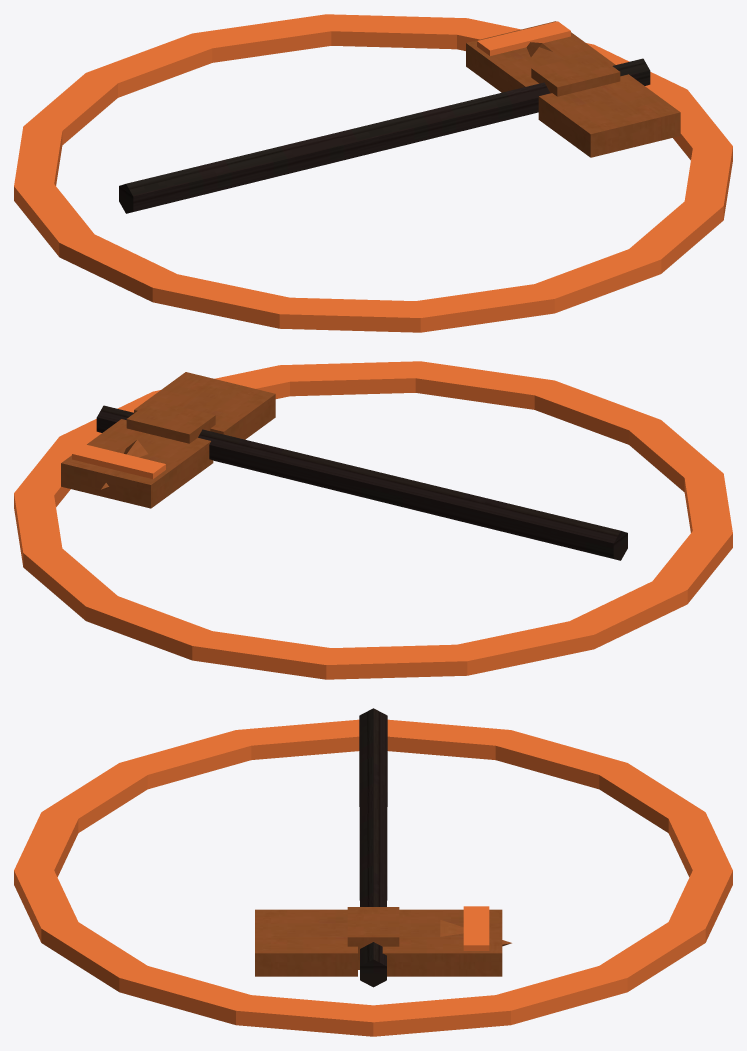
The model's file is loot_axe_g4.glb.
The picture shows the model from 3 angles, top to bottom: view 1: azimuth 30°, elevation 25°; view 2: azimuth 150°, elevation 25°; view 3: azimuth 270°, elevation 25°; orthographic projection.
Parts seen in each view (by area): view 1: loot_axe_g4; view 2: loot_axe_g4; view 3: loot_axe_g4.
Boxes of the visible parts, x1=… form: loot_axe_g4: x1=14, y1=14, x2=732, y2=332; loot_axe_g4: x1=14, y1=361, x2=732, y2=679; loot_axe_g4: x1=14, y1=708, x2=732, y2=1036.
Bounding box in the file's own units: 1.4 × 0.135 × 1.4.
3 materials, 3 textured.
